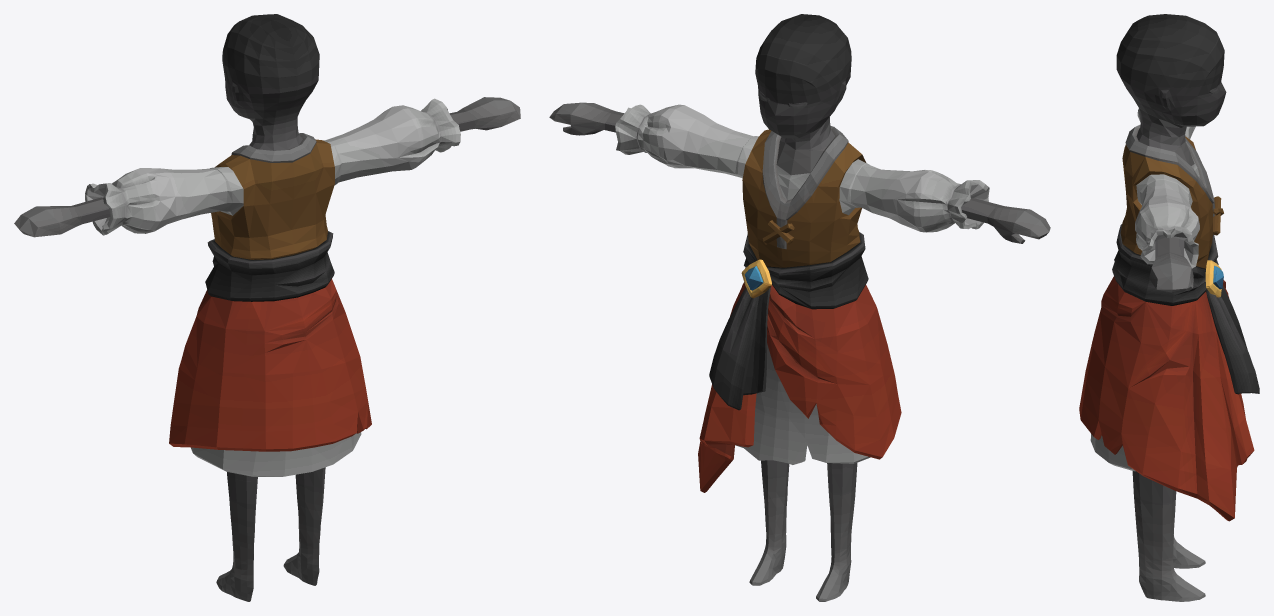
Rendered from CharSkyKid_Body_TreasureDress.glb.
The picture shows the model from 3 angles, left to right: view 1: azimuth 30°, elevation 25°; view 2: azimuth 150°, elevation 25°; view 3: azimuth 270°, elevation 25°; orthographic projection.
Visible parts, largest first — view 1: CharSkyKid_Body_TreasureDress; view 2: CharSkyKid_Body_TreasureDress; view 3: CharSkyKid_Body_TreasureDress.
Part boxes in pixels (box(x1,y1,x2,y2)): CharSkyKid_Body_TreasureDress: box(14, 14, 520, 601); CharSkyKid_Body_TreasureDress: box(549, 14, 1050, 601); CharSkyKid_Body_TreasureDress: box(1079, 14, 1259, 601).
Size of the model in its own units: 13.83 by 14.94 by 4.34.
1 material, 1 textured.
